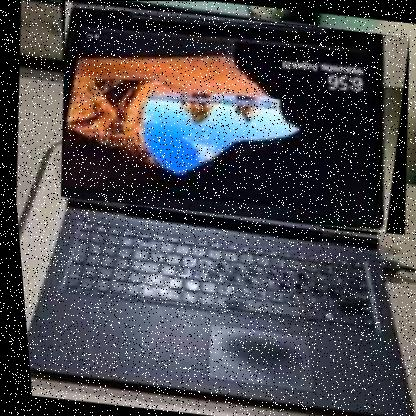Normal: (43, 0, 415, 236)
